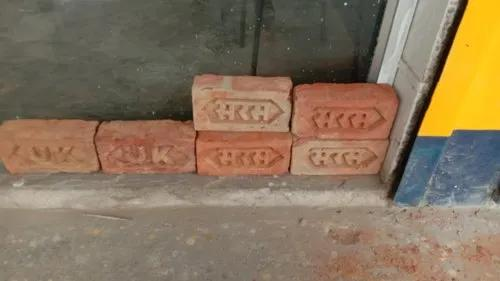brick: (292, 95, 398, 138), (193, 89, 291, 132), (289, 138, 390, 176), (97, 136, 195, 174), (2, 136, 97, 174), (197, 138, 291, 175)
